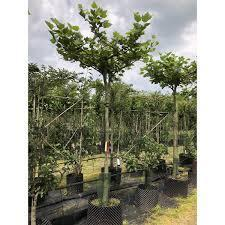tree: (43, 1, 167, 205), (137, 50, 198, 177)
